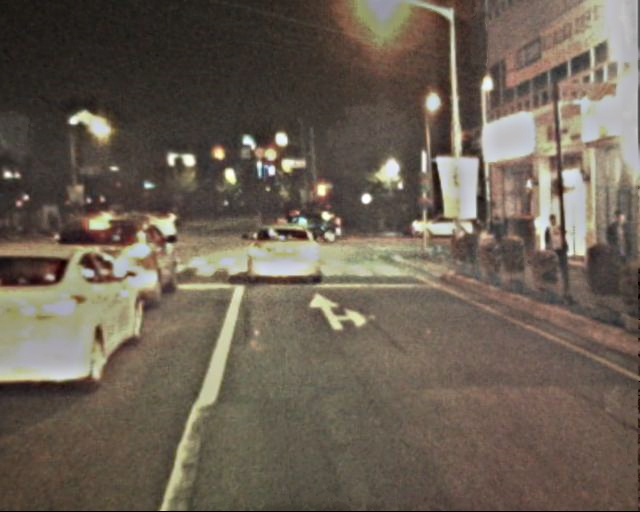person: (606, 209, 632, 284), (543, 213, 568, 276), (28, 204, 78, 234), (449, 221, 468, 267)
